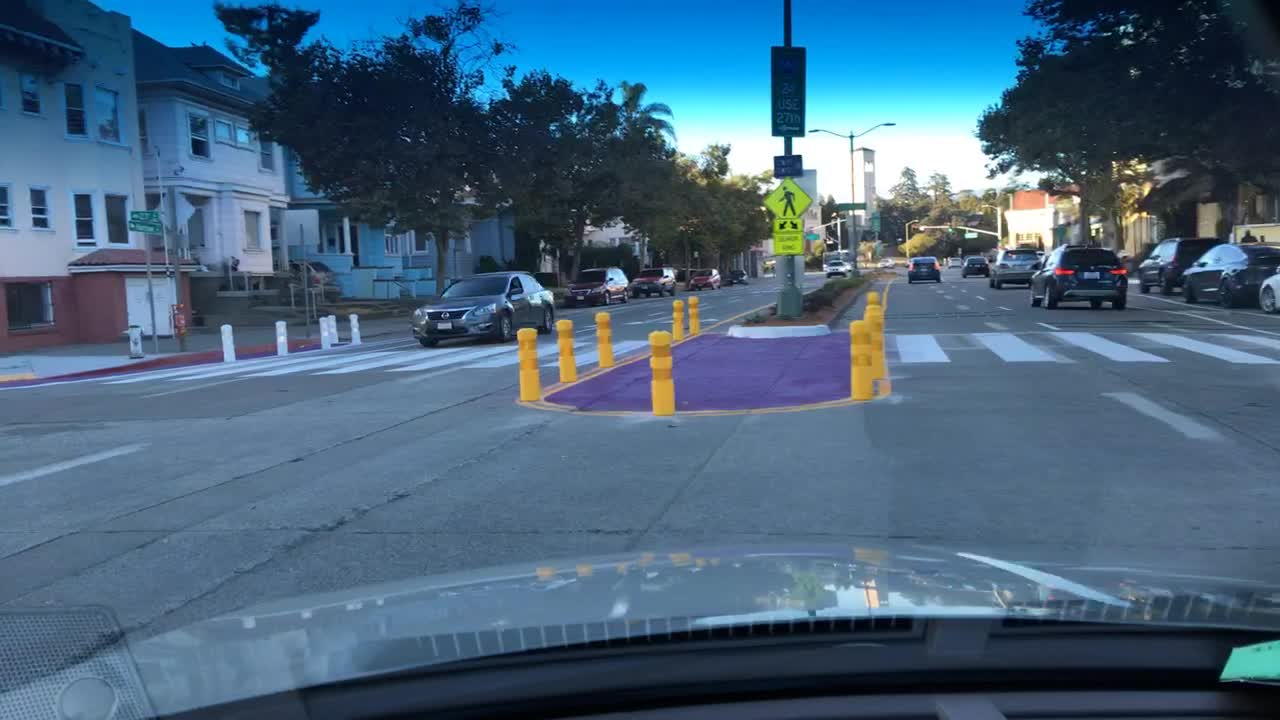car: (414, 267, 555, 349), (1178, 244, 1280, 315), (1029, 246, 1128, 313), (1135, 238, 1218, 295), (564, 269, 629, 309), (986, 250, 1039, 287), (630, 264, 678, 296), (1257, 264, 1280, 315), (904, 258, 942, 287), (687, 266, 721, 292), (962, 256, 988, 279), (727, 269, 750, 286), (825, 261, 847, 278), (948, 255, 963, 267)
person: (1238, 228, 1259, 245)
traffic light: (945, 221, 951, 233)
traffic sign: (770, 46, 805, 132), (767, 184, 810, 218), (774, 221, 802, 258), (773, 155, 804, 177), (128, 224, 159, 236), (125, 210, 157, 221), (804, 230, 819, 243), (965, 230, 979, 240)
